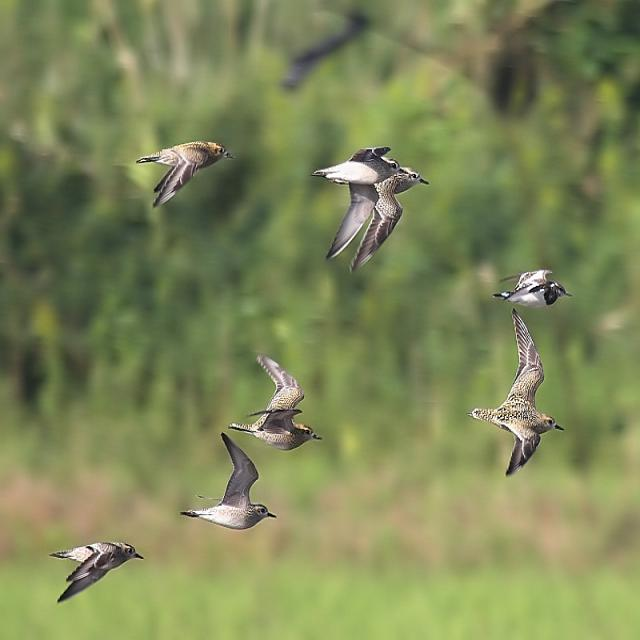bird: (461, 307, 566, 481), (312, 142, 404, 258), (226, 354, 321, 454), (180, 437, 275, 534), (356, 159, 428, 271), (128, 140, 234, 210), (51, 544, 150, 609), (485, 266, 575, 332)
